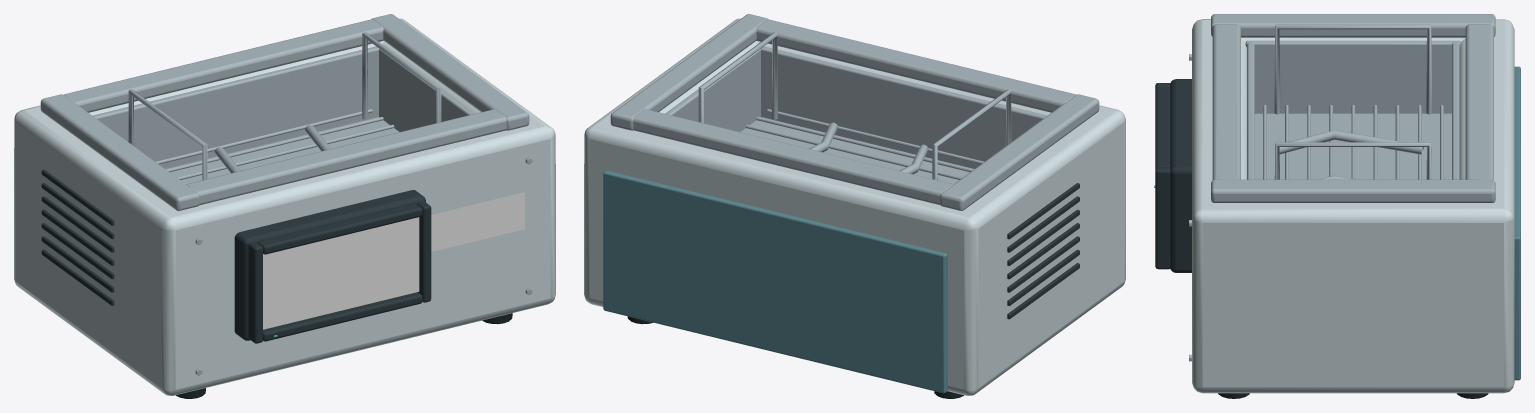
Rendered from ID_UltrasonicBath.fbx.
3 renders of one model, left to right at view 1: azimuth 30°, elevation 25°; view 2: azimuth 150°, elevation 25°; view 3: azimuth 270°, elevation 25°, orthographic. The views are drawn at different scales.
Visible parts, largest first — view 1: ID_UltrasonicBath; view 2: ID_UltrasonicBath; view 3: ID_UltrasonicBath.
Part boxes in pixels (<box>): ID_UltrasonicBath: <box>14,14,555,398</box>; ID_UltrasonicBath: <box>584,14,1125,398</box>; ID_UltrasonicBath: <box>1154,14,1520,398</box>.
Bounding box in the file's own units: 74.5 × 40.35 × 58.
